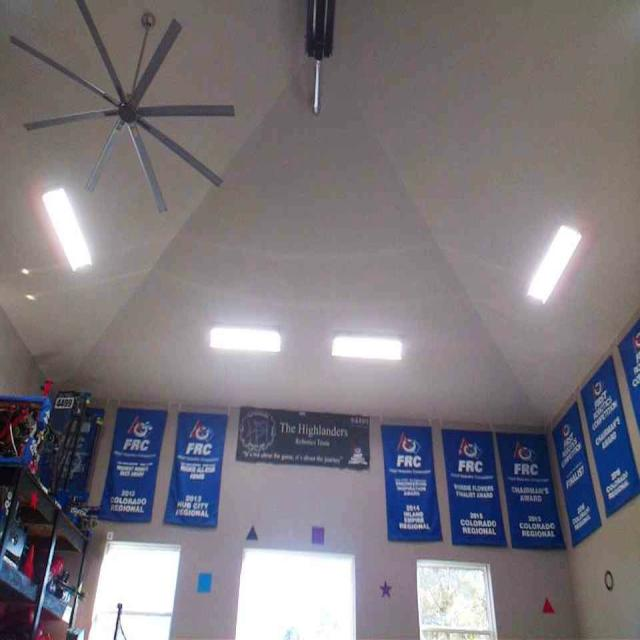ring_black: (603, 568, 613, 588)
square_blue: (197, 573, 211, 591)
square_purple: (310, 525, 324, 545), (246, 522, 259, 538)
star_purple: (379, 580, 391, 596)
triangle_red: (539, 596, 555, 614)
